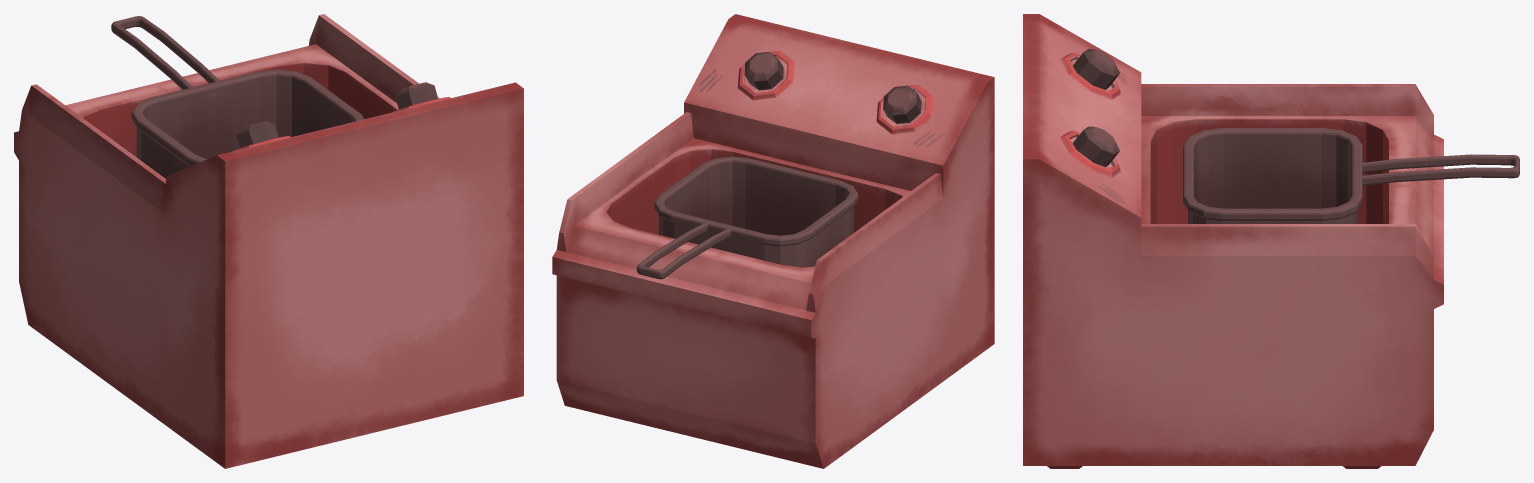
The model's file is Station_Fryer.fbx.
3 views of the same model, side by side, from view 1: azimuth 30°, elevation 25°; view 2: azimuth 150°, elevation 25°; view 3: azimuth 270°, elevation 25° (orthographic). The views are drawn at different scales.
Parts seen in each view (by area): view 1: m_Freidora, m_Freidora_Cesta, m_Freidora_Perillla_01, m_Freidora_Perillla_02; view 2: m_Freidora, m_Freidora_Cesta, m_Freidora_Perillla_02, m_Freidora_Perillla_01; view 3: m_Freidora, m_Freidora_Cesta, m_Freidora_Perillla_01, m_Freidora_Perillla_02.
Part boxes in pixels (x1,y1,x2,y2): m_Freidora: (14, 14, 523, 468); m_Freidora_Cesta: (111, 16, 363, 178); m_Freidora_Perillla_01: (235, 121, 278, 148); m_Freidora_Perillla_02: (395, 82, 437, 109); m_Freidora: (552, 14, 994, 468); m_Freidora_Cesta: (636, 156, 858, 279); m_Freidora_Perillla_02: (744, 52, 783, 90); m_Freidora_Perillla_01: (883, 85, 921, 124); m_Freidora: (1023, 14, 1443, 468); m_Freidora_Cesta: (1183, 128, 1519, 223); m_Freidora_Perillla_01: (1073, 48, 1119, 89); m_Freidora_Perillla_02: (1072, 126, 1119, 167).
Size of the model in its own units: 121 by 124 by 175.
